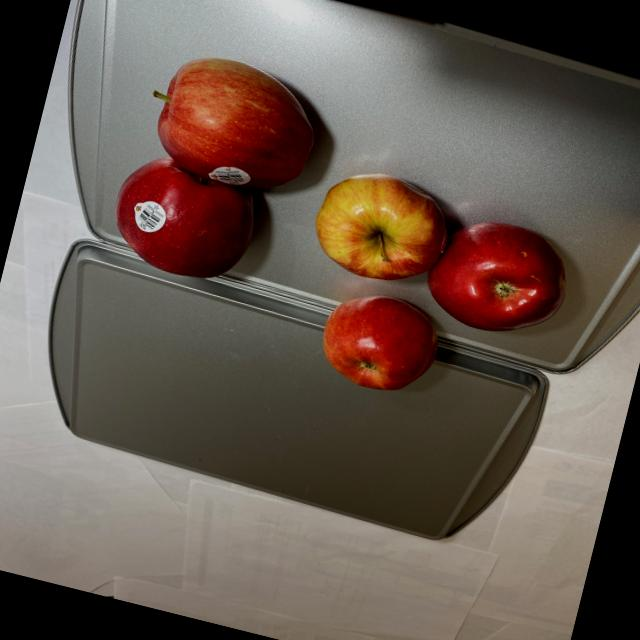apple: (278, 157, 588, 431), (99, 36, 334, 302)
